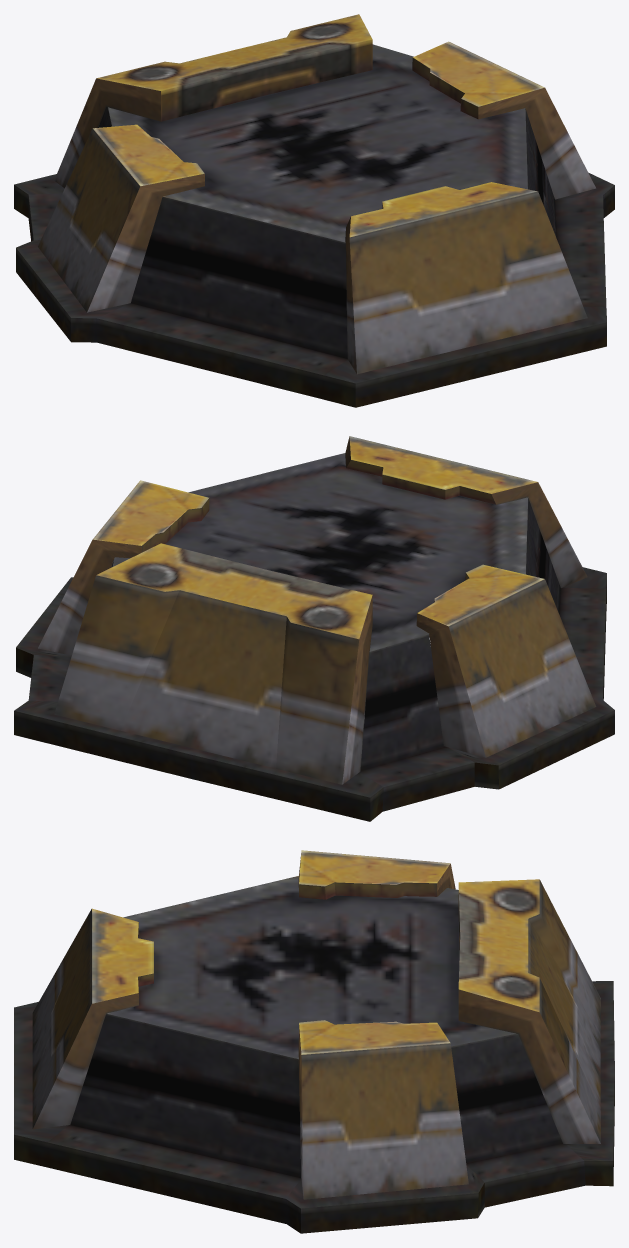
The model's file is zc_lekesigang_kejizawu04.FBX.
3 views of the same model, one above another, from view 1: azimuth 30°, elevation 25°; view 2: azimuth 150°, elevation 25°; view 3: azimuth 270°, elevation 25° (orthographic). The views are drawn at different scales.
Parts seen in each view (by area): view 1: zc_lekesigang_kejizawu04; view 2: zc_lekesigang_kejizawu04; view 3: zc_lekesigang_kejizawu04.
Boxes of the visible parts, x1=… form: zc_lekesigang_kejizawu04: x1=14, y1=14, x2=614, y2=407; zc_lekesigang_kejizawu04: x1=14, y1=436, x2=614, y2=821; zc_lekesigang_kejizawu04: x1=14, y1=850, x2=614, y2=1233.
Size of the model in its own units: 189 by 51.25 by 174.
